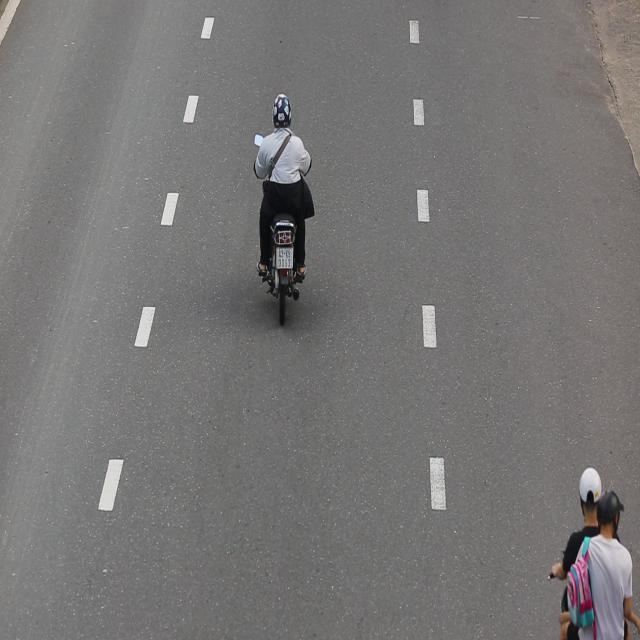motorbike: (247, 71, 319, 336)
